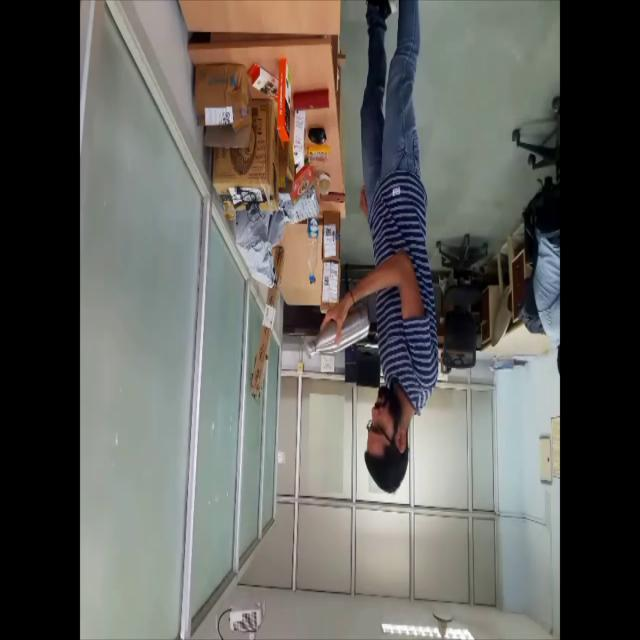normal: (308, 1, 444, 494)
